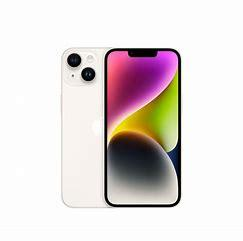-iphone13: (57, 45, 184, 211)
